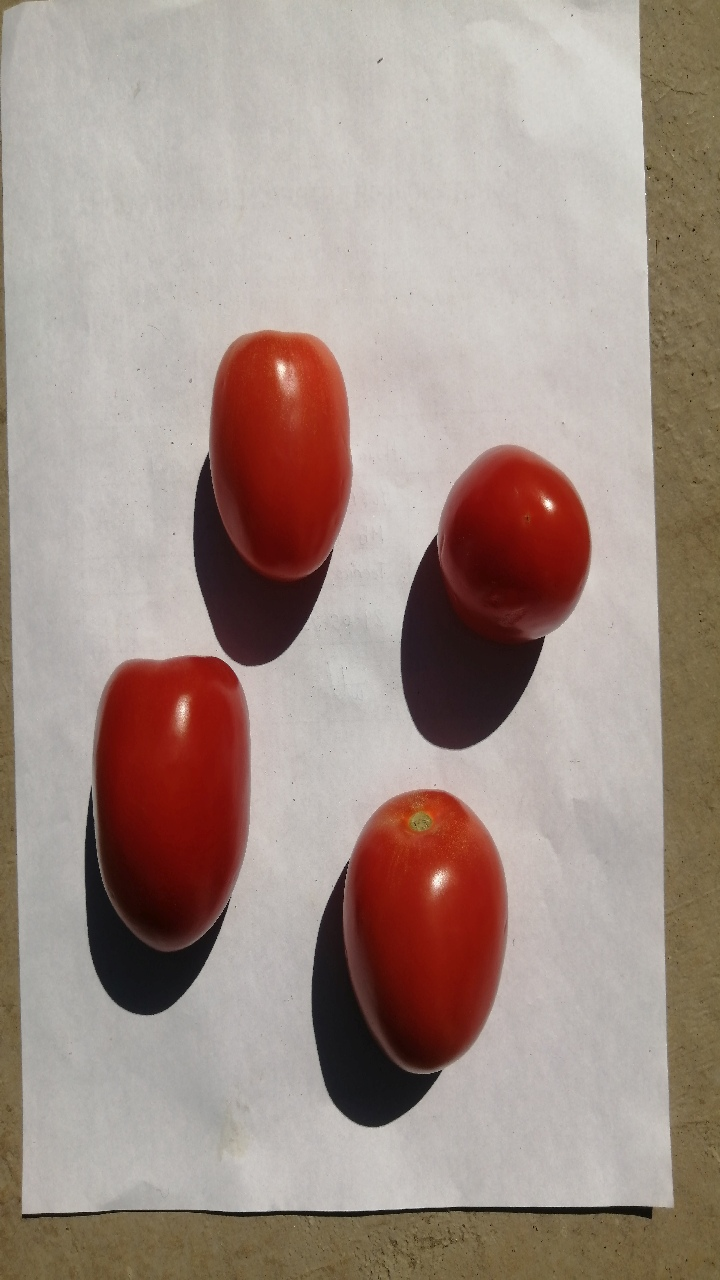tomateRojo: (331, 771, 526, 1088), (71, 634, 261, 948), (186, 303, 354, 605), (428, 428, 612, 640)
